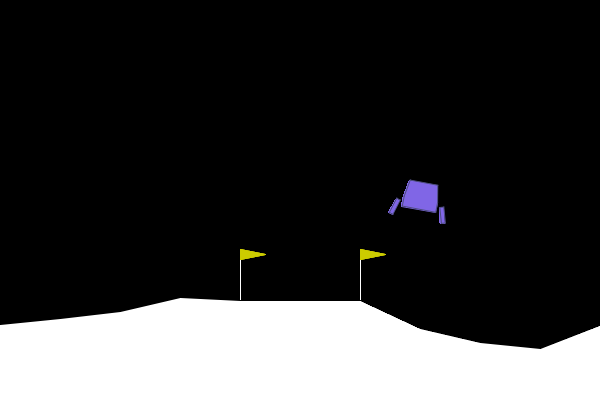lander: (387, 175, 453, 226)
